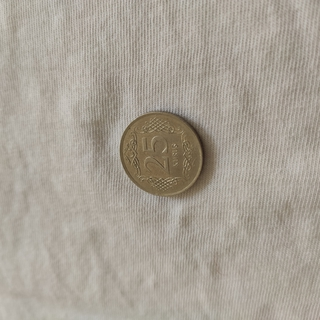25KURUS: (117, 109, 205, 196)
